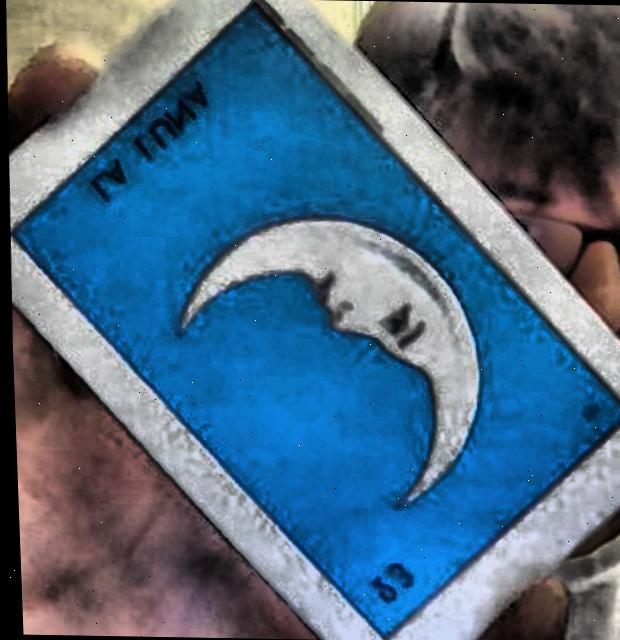La Luna: (9, 6, 620, 638)
